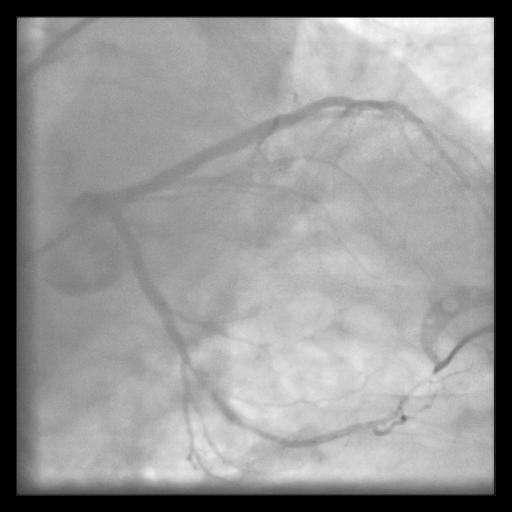Stenosis: (185, 359, 217, 401)
